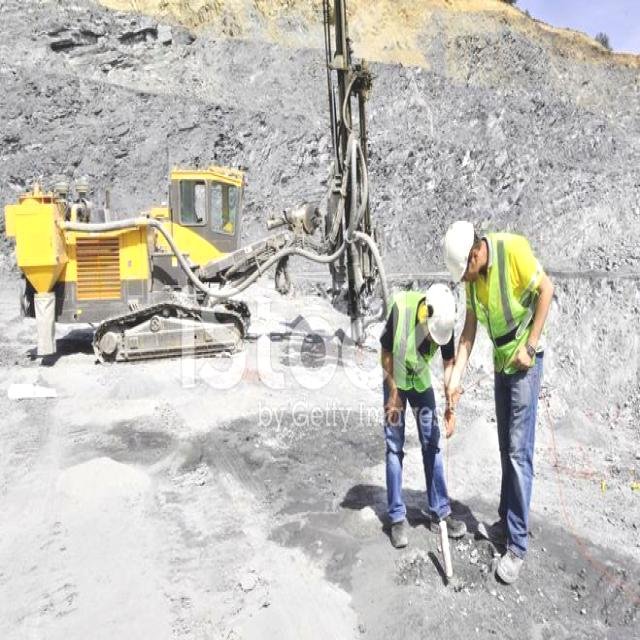hand_noglove: (511, 343, 534, 384), (443, 368, 463, 407), (438, 403, 456, 436)
head_helmet: (444, 217, 475, 282), (428, 282, 457, 342)
person: (453, 216, 537, 562), (388, 279, 460, 537)
shoes: (493, 539, 531, 587), (428, 502, 470, 541), (476, 512, 518, 544), (387, 508, 410, 552)
vest: (475, 234, 532, 378), (392, 298, 430, 393)
